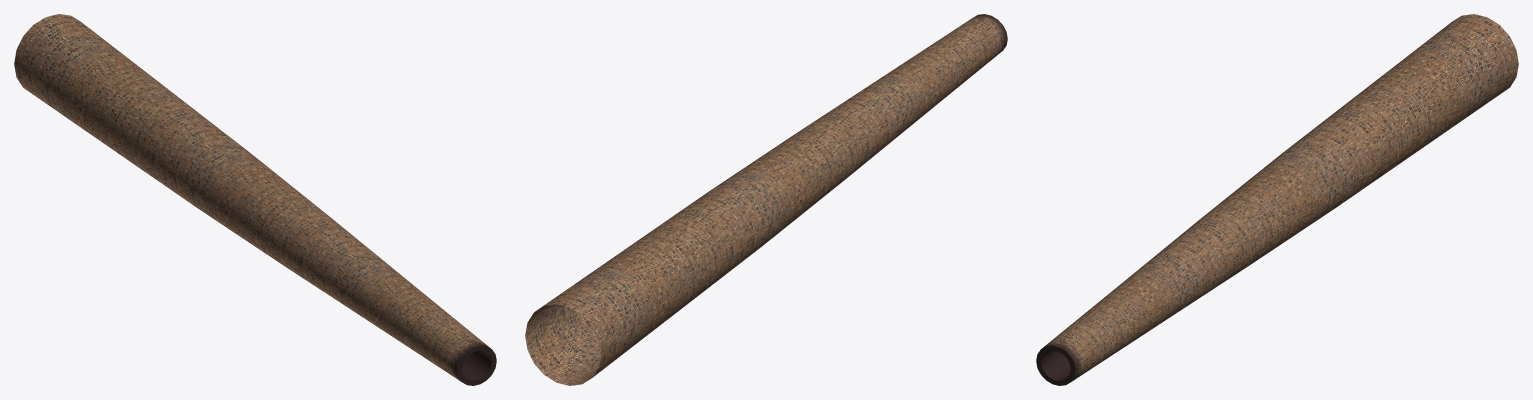
File: chimney_small.obj
The picture shows the model from 3 angles, left to right: view 1: azimuth 30°, elevation 25°; view 2: azimuth 150°, elevation 25°; view 3: azimuth 330°, elevation 25°; orthographic projection.
Parts seen in each view (by area): view 1: chimney_small; view 2: chimney_small; view 3: chimney_small.
Boxes of the visible parts, x1,y1,x2,y2 form: chimney_small: [14, 14, 496, 385]; chimney_small: [525, 14, 1007, 385]; chimney_small: [1036, 14, 1518, 385].
Size of the model in its own units: 3.11 by 3.06 by 30.
